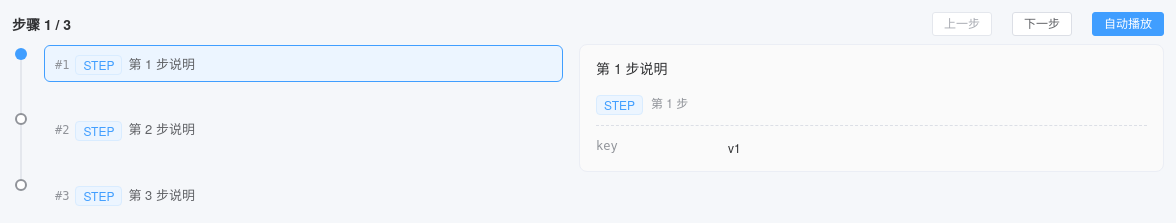
Scenario: StepTimeline › 自动播放可暂停
This screenshot has width=1176, height=223.
Step 1. Click the button with test id "step-play" → (1128, 24), box [1092, 12, 1164, 36]
Wait 1500 ms
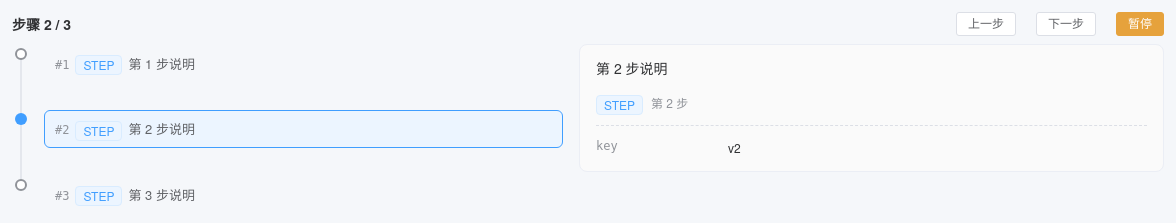
Step 2. Click the button with test id "step-play" → (1140, 24), box [1116, 12, 1164, 36]
Wait 3000 ms
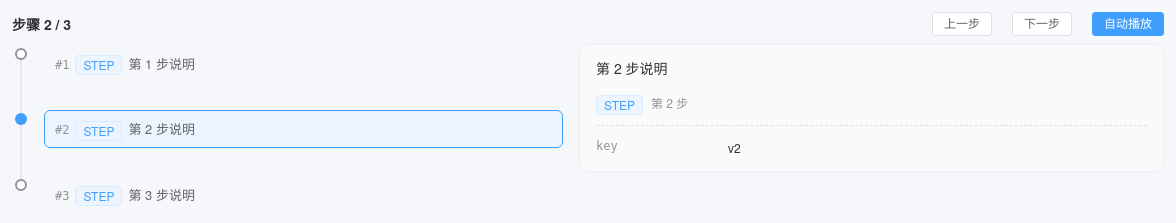
expect the text with test id "step-indicator" reads "步骤 2 / 3": met, box [12, 14, 71, 34]
expect the button with test id "step-play" reads "自动播放": met, box [1092, 12, 1164, 36]
